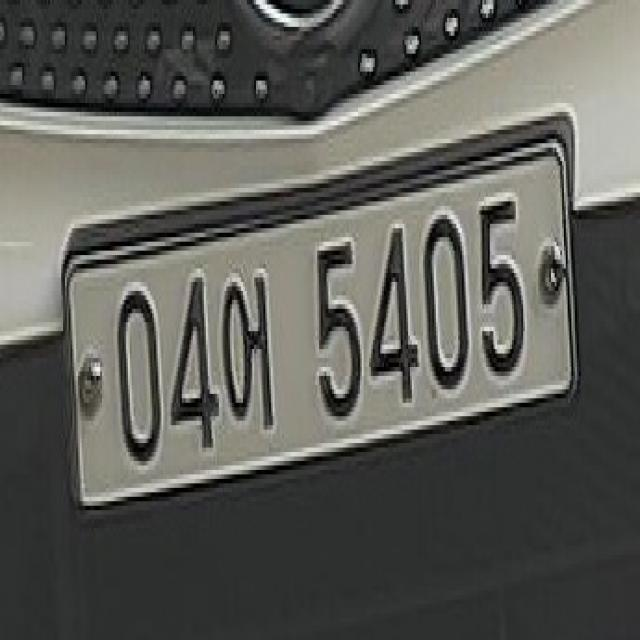0: (420, 201, 472, 412), (117, 268, 164, 474)
4: (166, 258, 224, 466), (367, 214, 417, 418)
5: (476, 186, 531, 404), (311, 222, 365, 419)
eo: (224, 268, 281, 437)
license_plate: (52, 106, 600, 500)
